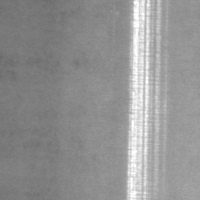scratches: (123, 0, 168, 199)
